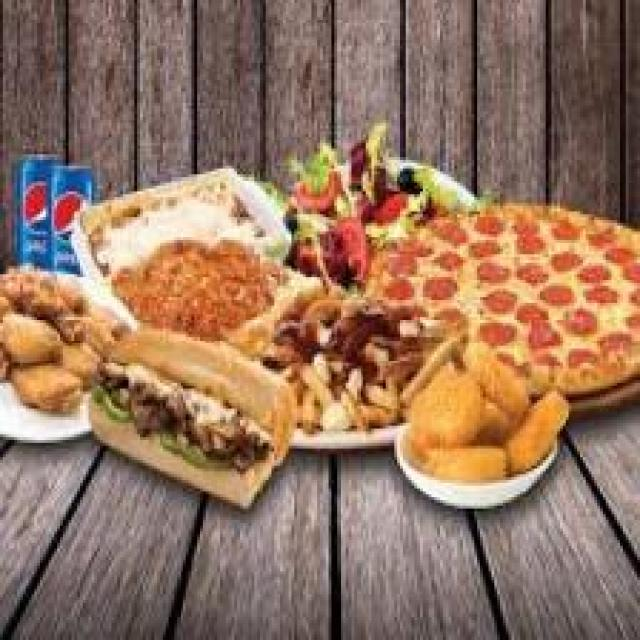Chicken Wings: (1, 246, 104, 428)
